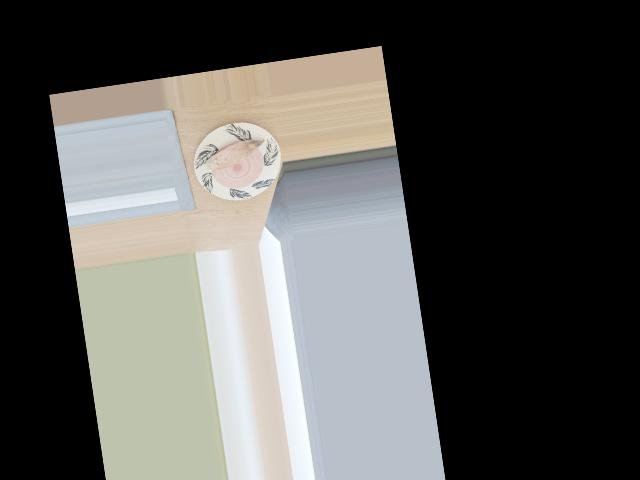sweet_potato: (205, 133, 262, 174)
